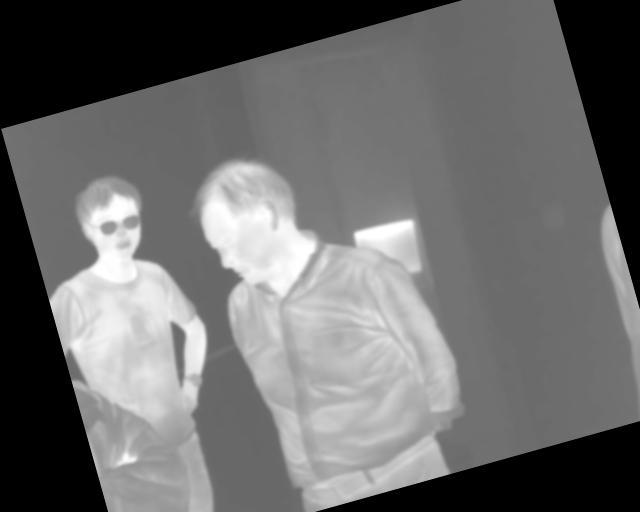face: (179, 144, 314, 296), (66, 167, 157, 268)
